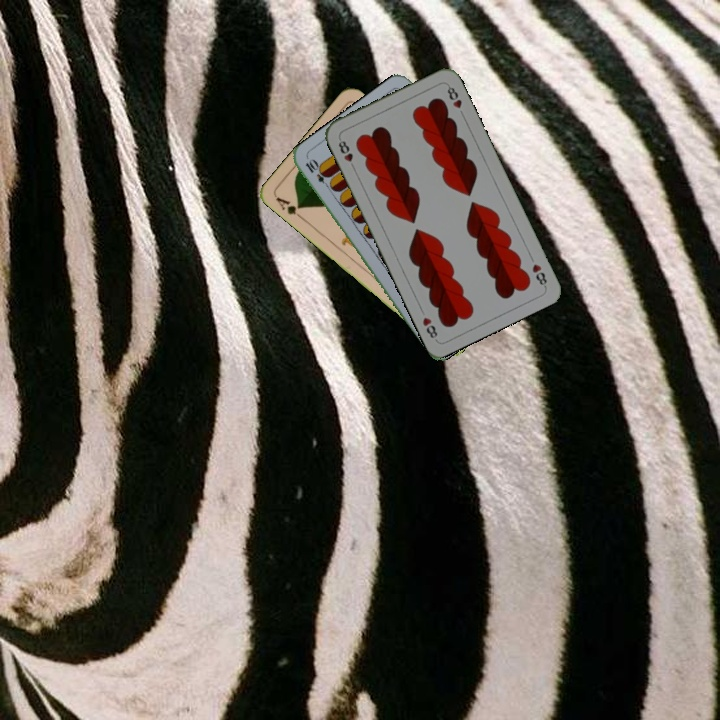E10: (301, 155, 333, 191)
GA: (271, 193, 307, 223)
H8: (334, 135, 358, 172), (528, 260, 550, 290)
